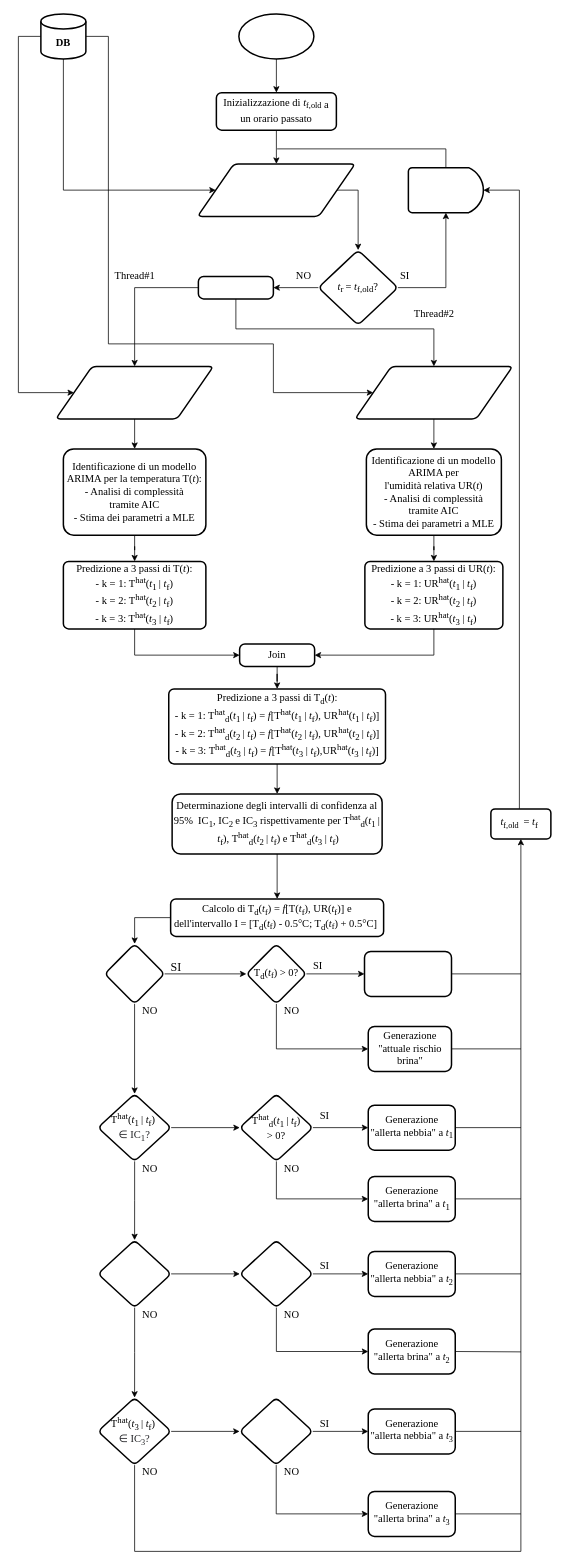
This 565x1565 diagram has some shape labels left out. The shapes that lost their labels are listed below. From the top down, each one's box as (x1, y1, x2, y2) in pixels, then its label:
(238, 13, 314, 59): INIZIO
(196, 163, 356, 217): Accesso all'orario t r dell'ultima acquisizione di temperatura T d
(407, 166, 484, 213): Ritardo di 5 min
(197, 275, 274, 299): Avvio thread
(55, 365, 214, 419): Accesso ai dati di temperatura T( t ) delle ultime 24 ore
(354, 365, 513, 419): Accesso ai dati di umidità relativa UR( t ) delle ultime 24 ore
(104, 943, 165, 1004): T ( t f ) ∈ I?
(363, 950, 452, 997): Generazione "attuale rischio nebbia"
(97, 1239, 172, 1308): T hat ( t 2 | t f ) ∈ IC 2 ?
(239, 1239, 313, 1308): T hat d ( t 2 | t f ) > 0?
(238, 1396, 313, 1466): T hat d ( t 3 | t f ) > 0?
